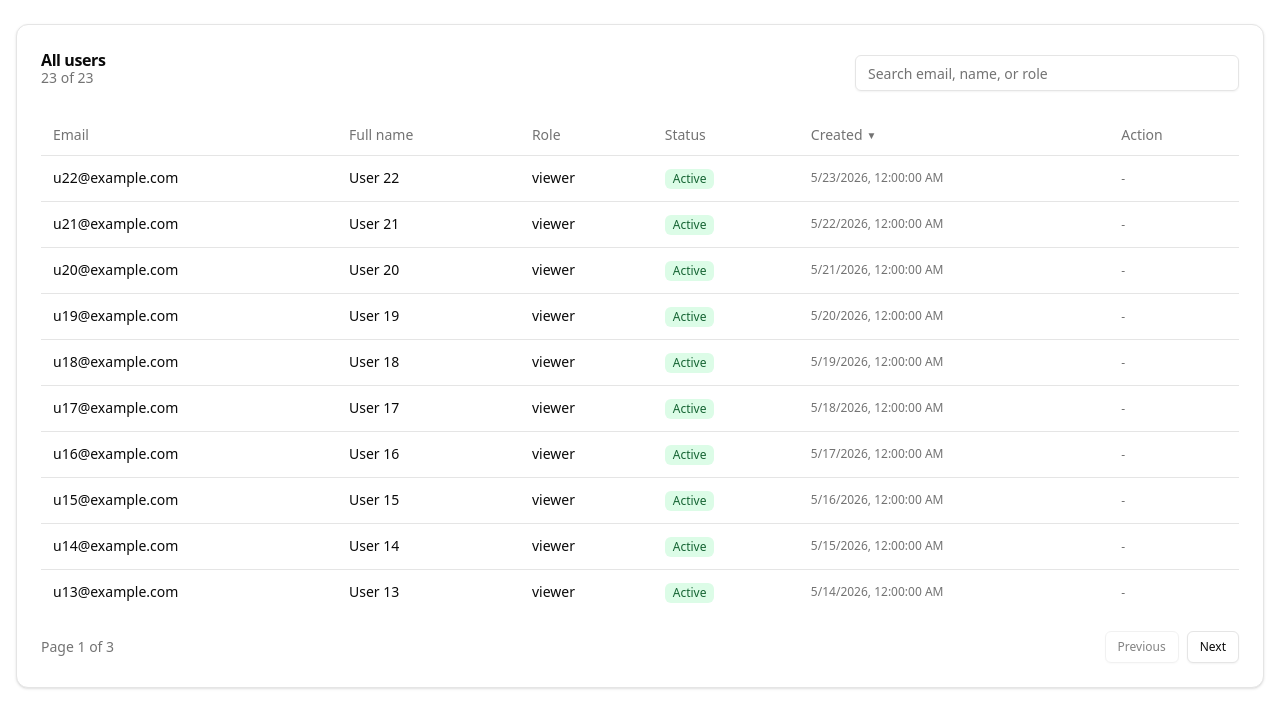
AdminUsersPage › paginates with Previous and Next disabled at boundaries
(page scrolled)
Check: the element with test id "pagination" is shown, box [41, 630, 1239, 662]
Check: the button with test id "page-prev" is disabled, box [1104, 630, 1179, 662]
Click the button with test id "page-next" at (1213, 646), box [1187, 630, 1239, 662]
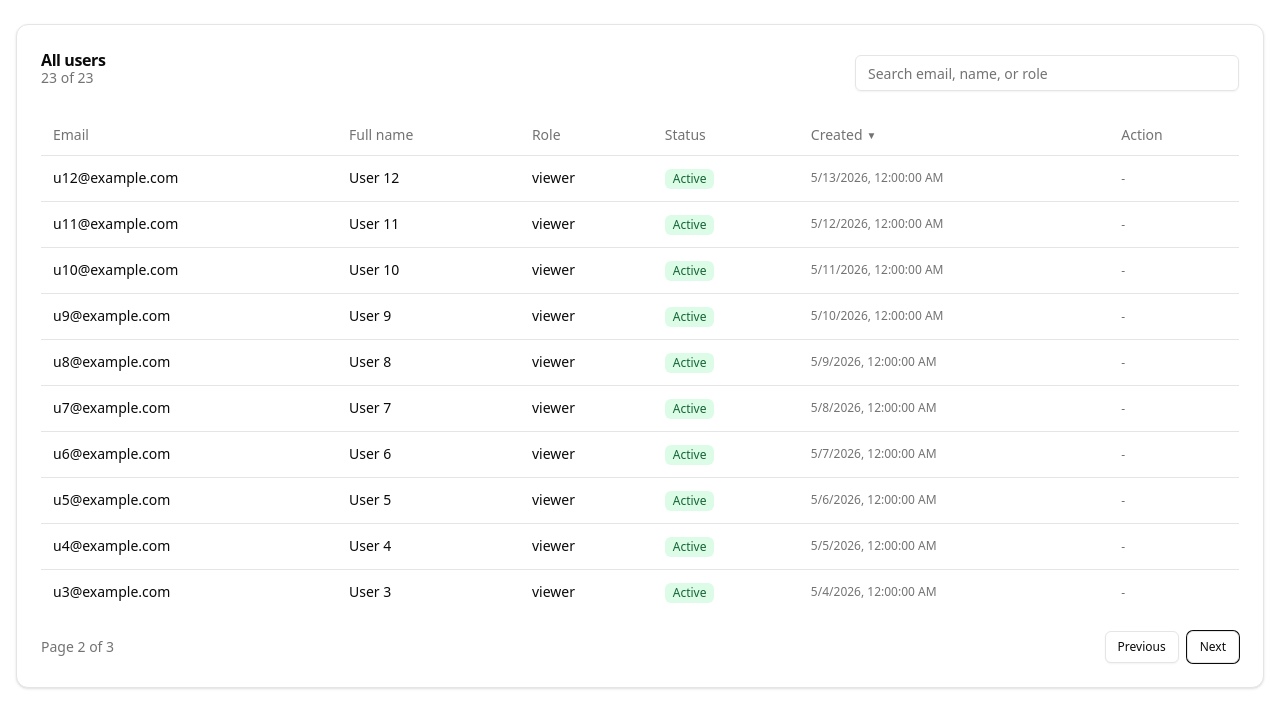
Check: the element with test id "pagination" shows "Page 2 of 3", box [41, 630, 1239, 662]
Click the button with test id "page-next" at (1213, 646), box [1187, 630, 1239, 662]
(page scrolled)
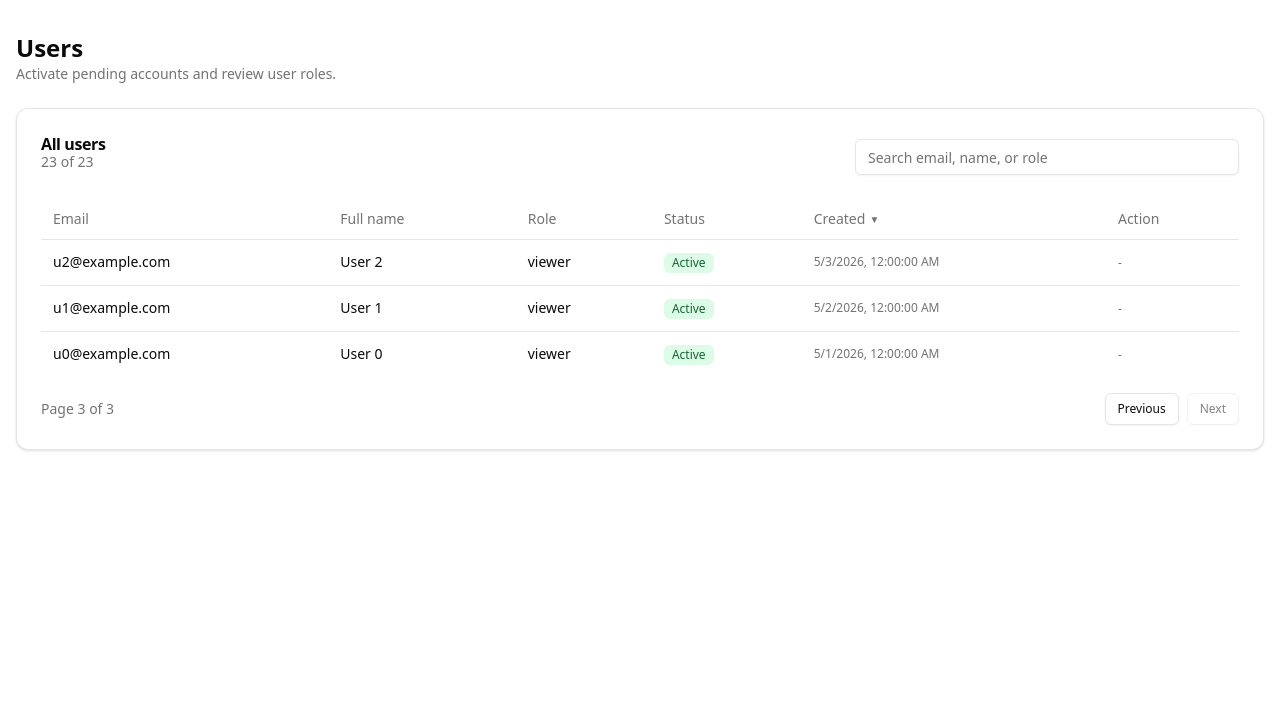
Check: the element with test id "pagination" shows "Page 3 of 3", box [41, 392, 1239, 424]
Check: the button with test id "page-next" is disabled, box [1187, 392, 1239, 424]
